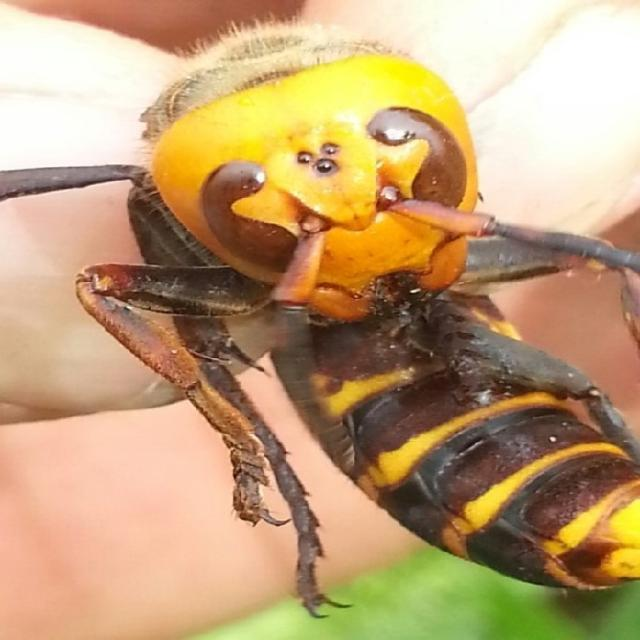Wasp: (51, 13, 640, 600)
